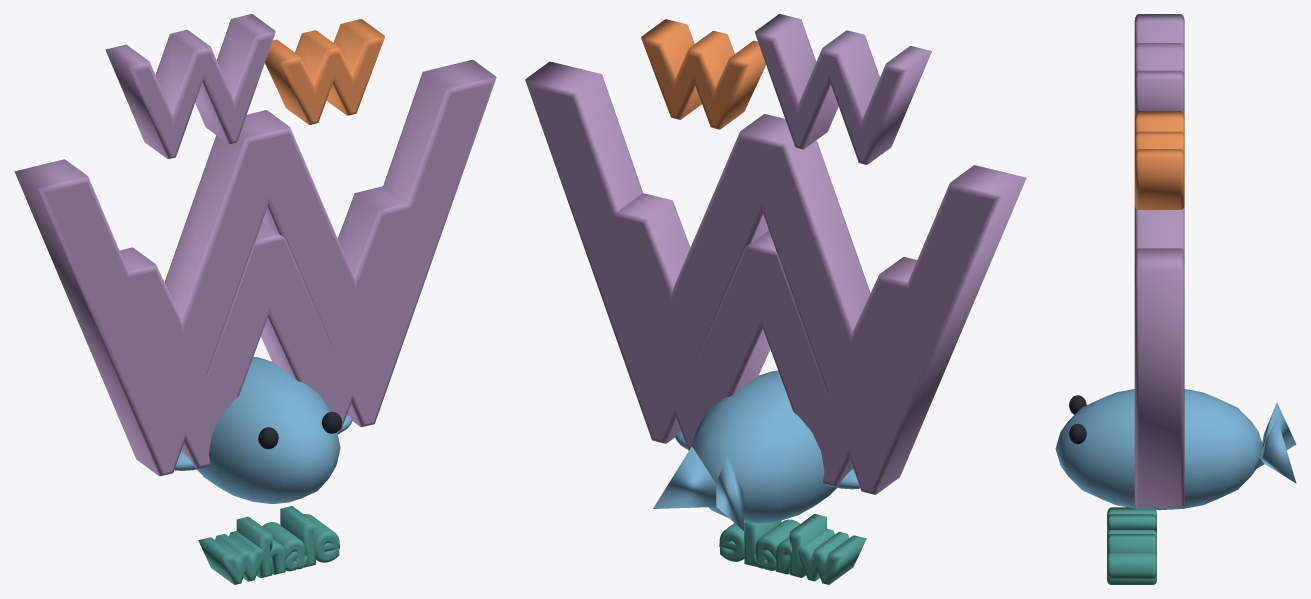
Rendered from letter-w.glb.
The picture shows the model from 3 angles, left to right: view 1: azimuth 30°, elevation 25°; view 2: azimuth 150°, elevation 25°; view 3: azimuth 270°, elevation 25°; orthographic projection. The views are drawn at different scales.
Visible parts, largest first — view 1: letter solid, letter solid.001, uppercase solid, round animal body, lowercase solid, example word; view 2: letter solid, letter solid.001, uppercase solid, round animal body, lowercase solid, example word, tail fin.001, tail fin; view 3: letter solid, round animal body, lowercase solid, uppercase solid, example word, tail fin.001, tail fin.
Boxes of the visible parts, bbox=[...] form: letter solid: bbox=[14, 59, 496, 476]; letter solid.001: bbox=[119, 186, 411, 468]; uppercase solid: bbox=[105, 14, 275, 158]; round animal body: bbox=[197, 356, 340, 503]; lowercase solid: bbox=[265, 19, 384, 124]; example word: bbox=[198, 506, 339, 584]; letter solid: bbox=[525, 61, 1026, 494]; letter solid.001: bbox=[606, 193, 917, 486]; uppercase solid: bbox=[755, 14, 931, 164]; round animal body: bbox=[691, 370, 836, 523]; lowercase solid: bbox=[641, 19, 765, 129]; example word: bbox=[719, 514, 866, 584]; tail fin.001: bbox=[653, 446, 716, 508]; tail fin: bbox=[716, 455, 743, 530]; letter solid: bbox=[1134, 205, 1184, 507]; round animal body: bbox=[1055, 389, 1263, 510]; lowercase solid: bbox=[1134, 111, 1184, 209]; uppercase solid: bbox=[1134, 14, 1184, 116]; example word: bbox=[1107, 507, 1156, 584]; tail fin.001: bbox=[1260, 417, 1296, 483]; tail fin: bbox=[1257, 402, 1296, 468].
Size of the model in its own units: 1.76 by 1.94 by 0.872.
